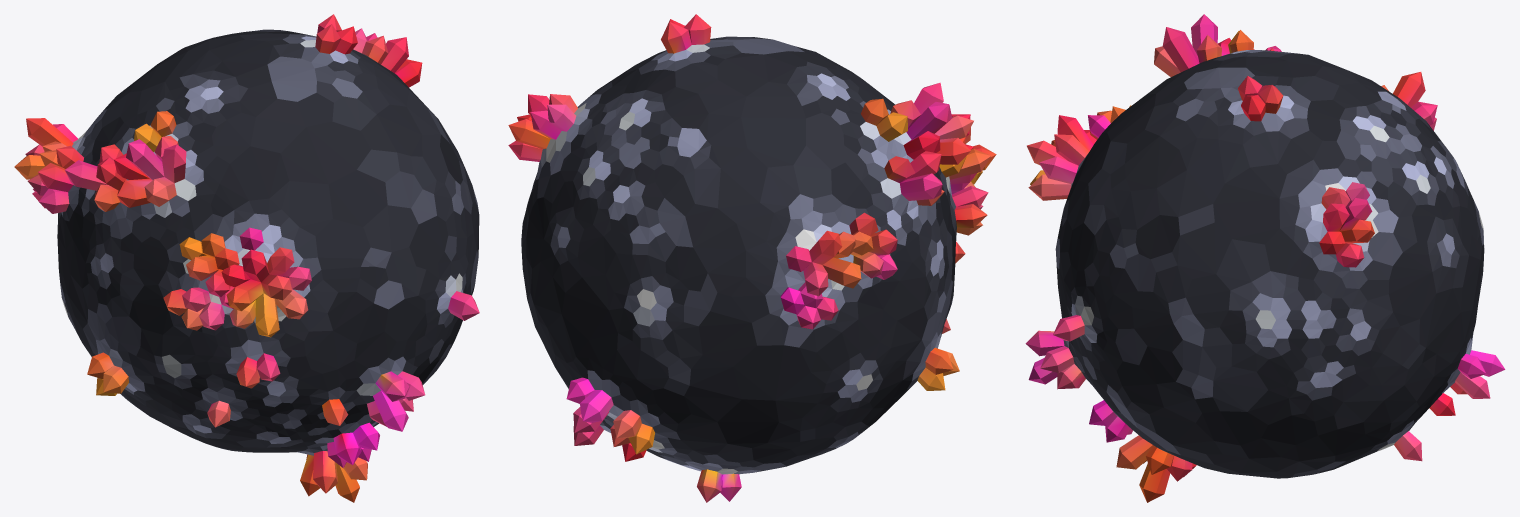
Rendered from Crystal_planet_19.fbx.
3 renders of one model, left to right at view 1: azimuth 30°, elevation 25°; view 2: azimuth 150°, elevation 25°; view 3: azimuth 270°, elevation 25°, orthographic. The views are drawn at different scales.
Visible parts, largest first — view 1: file6; view 2: file6; view 3: file6.
Boxes of the visible parts, left/top/right/bottom form: file6: left=14, top=14, right=479, bottom=502; file6: left=508, top=14, right=996, bottom=502; file6: left=1025, top=14, right=1505, bottom=502.
Size of the model in its own units: 2.11 by 2.27 by 2.24.
